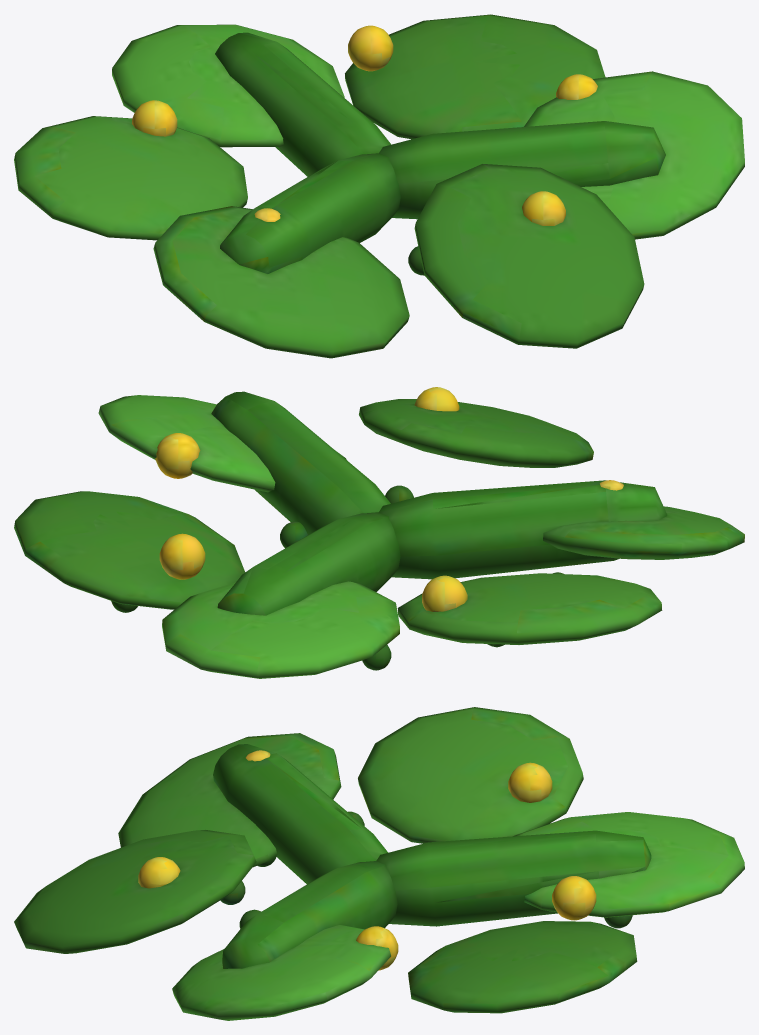
File: crop_cucumber.glb
The picture shows the model from 3 angles, top to bottom: view 1: azimuth 30°, elevation 25°; view 2: azimuth 150°, elevation 25°; view 3: azimuth 270°, elevation 25°; orthographic projection. The views are drawn at different scales.
Visible parts, largest first — view 1: crop_cucumber, fruit; view 2: crop_cucumber, fruit; view 3: crop_cucumber, fruit.
Part boxes in pixels (box(x1,y1,x2,y2)): crop_cucumber: box(14, 14, 744, 358); fruit: box(215, 32, 665, 273); crop_cucumber: box(14, 387, 744, 678); fruit: box(211, 391, 667, 615); crop_cucumber: box(14, 707, 744, 1020); fruit: box(213, 744, 651, 968).
Bounding box in the file's own units: 0.3718 × 0.0582 × 0.3914.
Materials: 1 (1 with a texture image).
